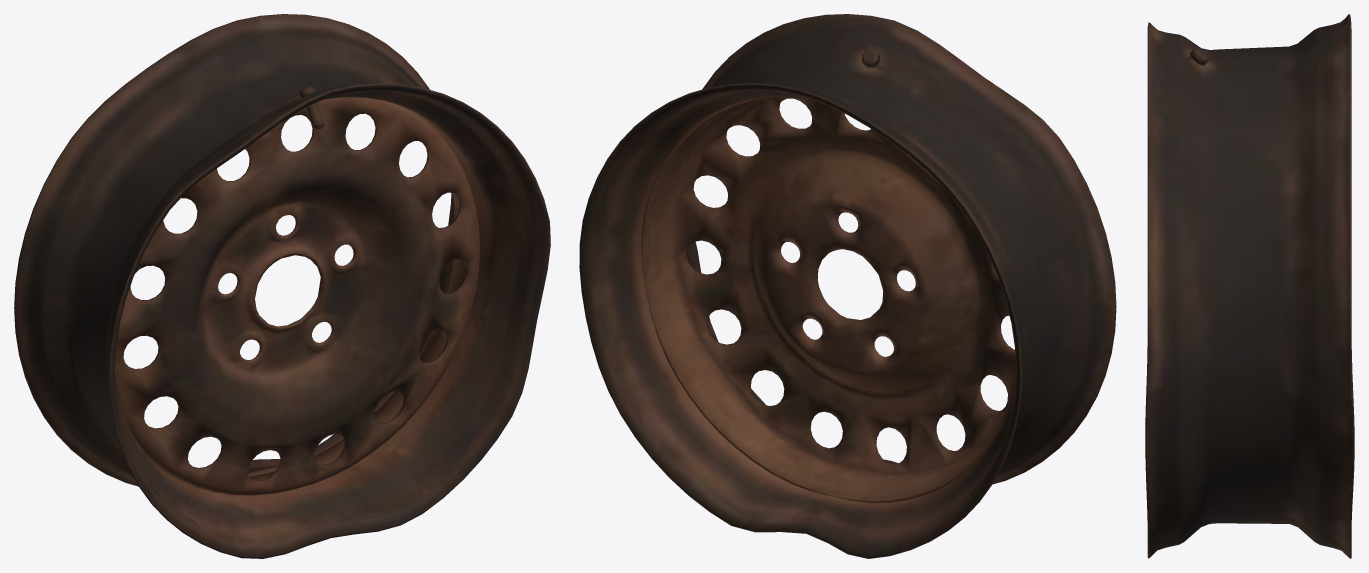
File: ph_rusted_wheel_rim_01.glb
3 views of the same model, side by side, from view 1: azimuth 30°, elevation 25°; view 2: azimuth 150°, elevation 25°; view 3: azimuth 270°, elevation 25° (orthographic). The views are drawn at different scales.
Visible parts, largest first — view 1: rusted_wheel_rim_01; view 2: rusted_wheel_rim_01; view 3: rusted_wheel_rim_01.
Boxes of the visible parts, left/top/right/bottom form: rusted_wheel_rim_01: left=14, top=14, right=550, bottom=558; rusted_wheel_rim_01: left=579, top=14, right=1116, bottom=558; rusted_wheel_rim_01: left=1145, top=14, right=1354, bottom=558.
Bounding box in the file's own units: 0.4029 × 0.3955 × 0.1541.
1 material, 1 textured.
